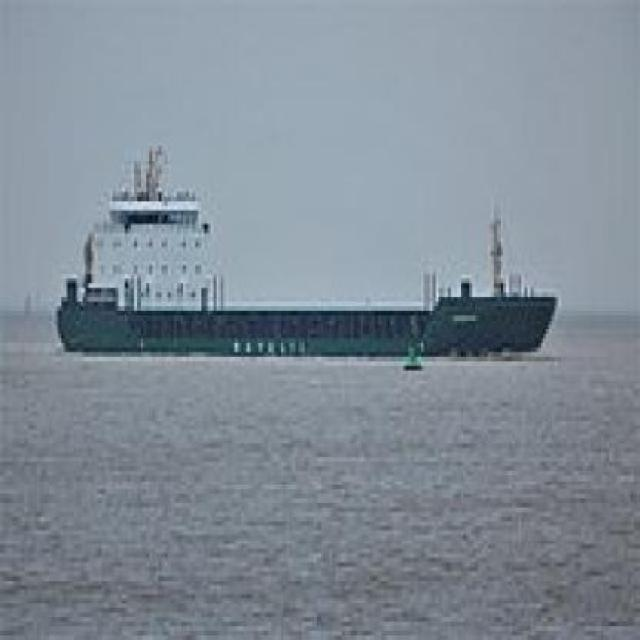container: (50, 147, 574, 381)
